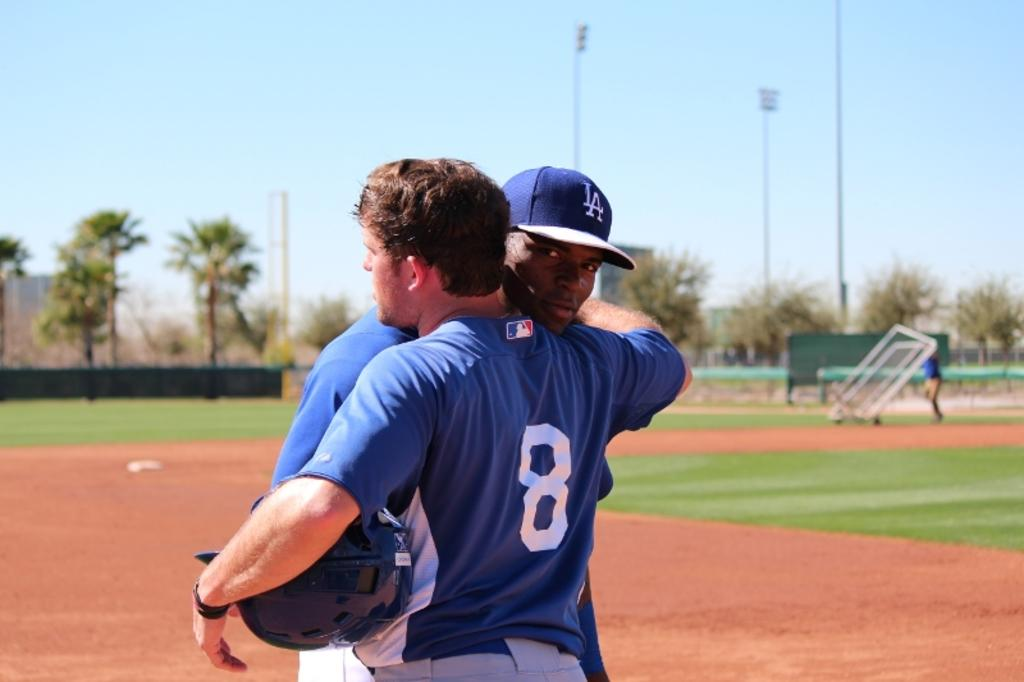Hat: (502, 166, 634, 271)
